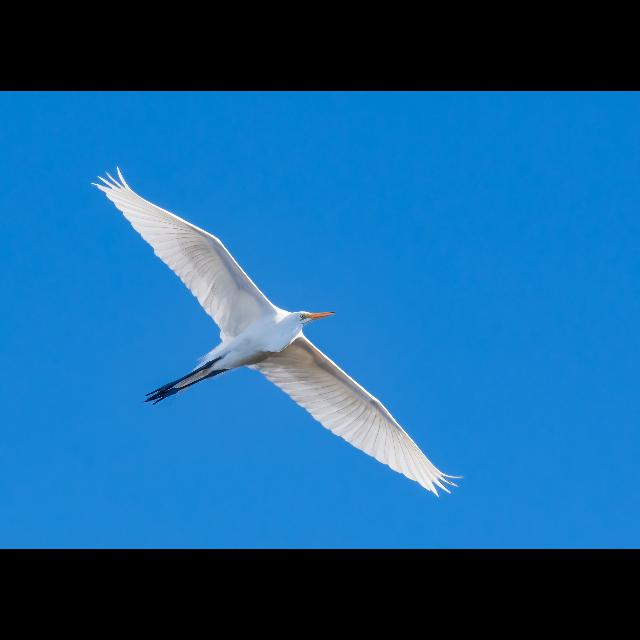egret: (92, 166, 458, 502)
